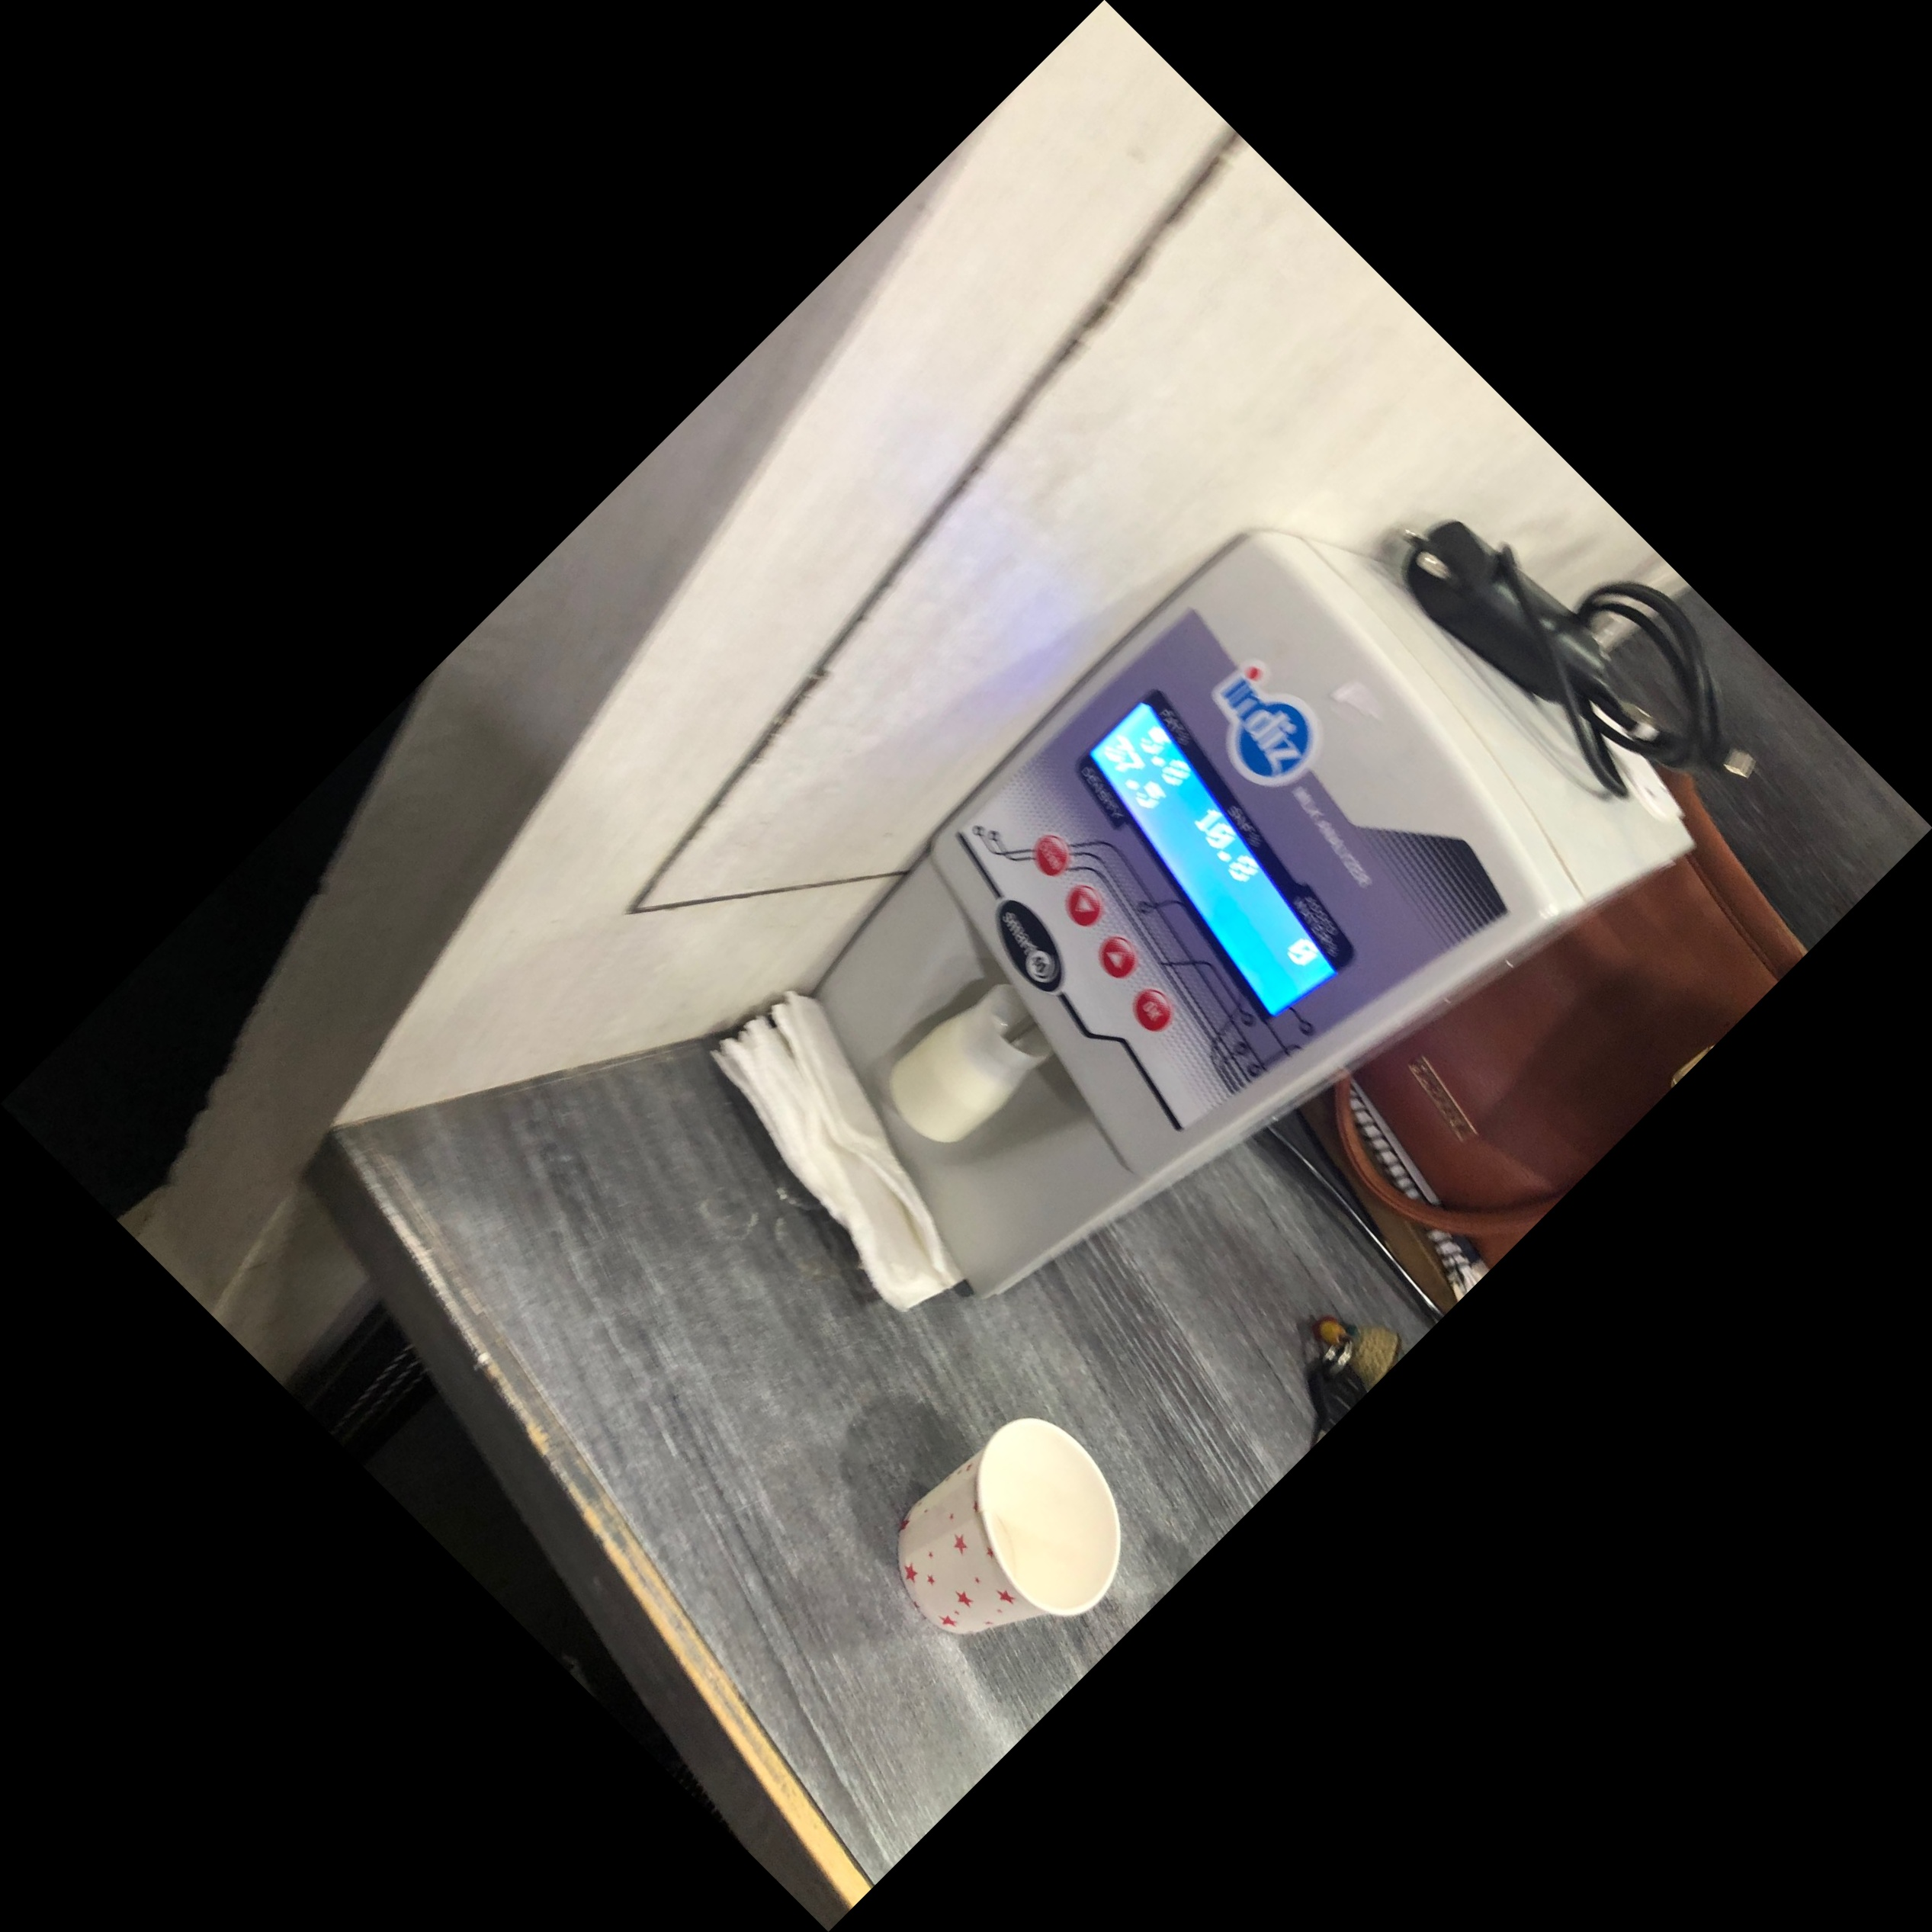lcd: (1067, 672, 1369, 1051)
